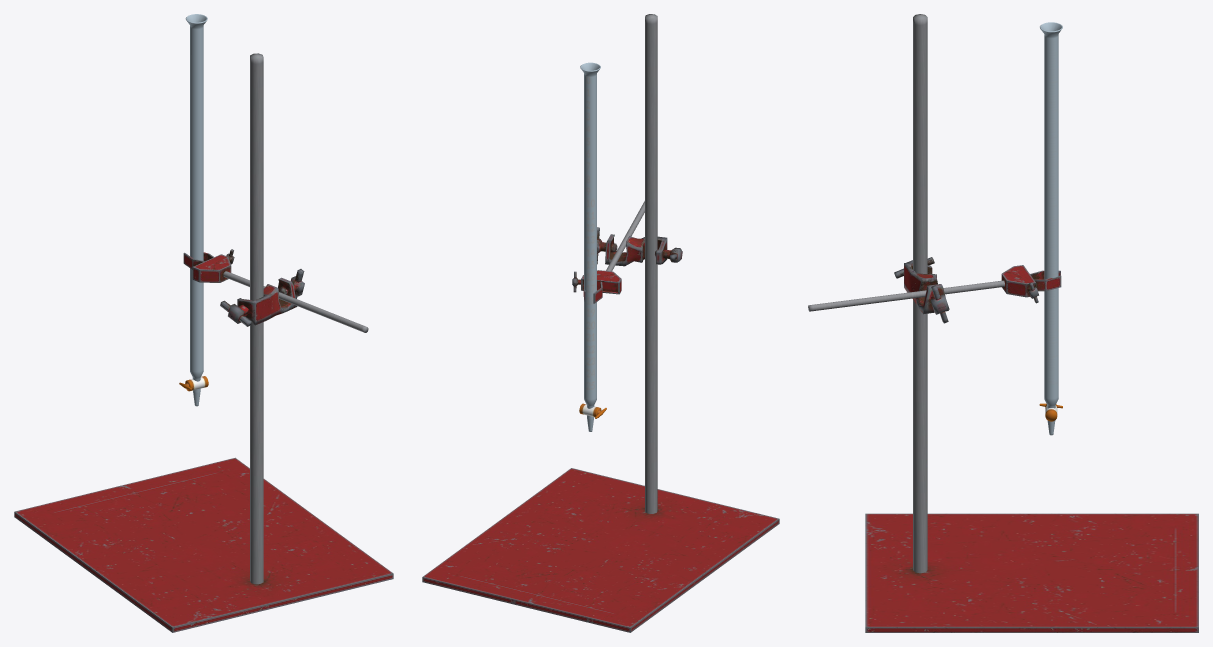
File: Stand&Conical&Burette.fbx
3 views of the same model, side by side, from view 1: azimuth 30°, elevation 25°; view 2: azimuth 150°, elevation 25°; view 3: azimuth 270°, elevation 25° (orthographic). The views are drawn at different scales.
Parts seen in each view (by area): view 1: Stand_base, StandSupport, BuretteGlass, holder_mid, rod_mid, holder; view 2: Stand_base, StandSupport, BuretteGlass, holder_mid, holder; view 3: Stand_base, StandSupport, BuretteGlass, rod_mid, holder_mid, holder.
Boxes of the visible parts, x1,y1,x2,y2 form: Stand_base: [14, 457, 393, 632]; StandSupport: [250, 53, 263, 584]; BuretteGlass: [185, 14, 207, 406]; holder_mid: [237, 277, 297, 325]; rod_mid: [223, 271, 368, 332]; holder: [192, 254, 231, 282]; Stand_base: [422, 468, 779, 632]; StandSupport: [645, 14, 657, 513]; BuretteGlass: [580, 62, 600, 431]; holder_mid: [605, 234, 667, 266]; holder: [581, 270, 621, 294]; Stand_base: [865, 513, 1198, 632]; StandSupport: [913, 14, 927, 573]; BuretteGlass: [1040, 22, 1062, 435]; rod_mid: [808, 280, 1004, 311]; holder_mid: [904, 263, 948, 314]; holder: [1001, 265, 1036, 297].
Size of the model in its own units: 37.79 by 86.95 by 54.94.
Materials: 3 (2 with a texture image).
